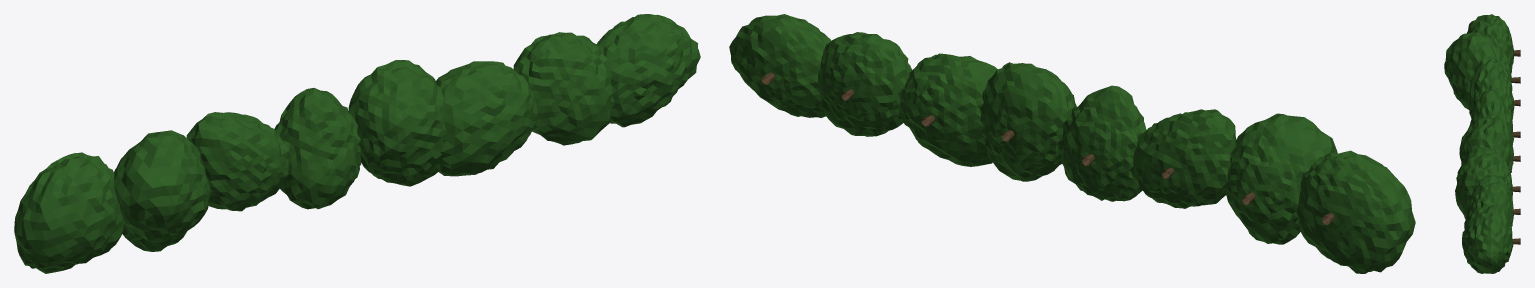
File: citrus_run8_c.obj
3 renders of one model, left to right at view 1: azimuth 30°, elevation 25°; view 2: azimuth 150°, elevation 25°; view 3: azimuth 270°, elevation 25°, orthographic. The views are drawn at different scales.
Visible parts, largest first — view 1: canopy; view 2: canopy, trunk; view 3: canopy, trunk.
Boxes of the visible parts, x1=… form: canopy: x1=14, y1=14, x2=700, y2=273; canopy: x1=729, y1=14, x2=1415, y2=273; trunk: x1=761, y1=72, x2=1334, y2=224; canopy: x1=1444, y1=14, x2=1514, y2=273; trunk: x1=1511, y1=50, x2=1520, y2=244.
Size of the model in its own units: 25.44 by 4.41 by 3.56.
